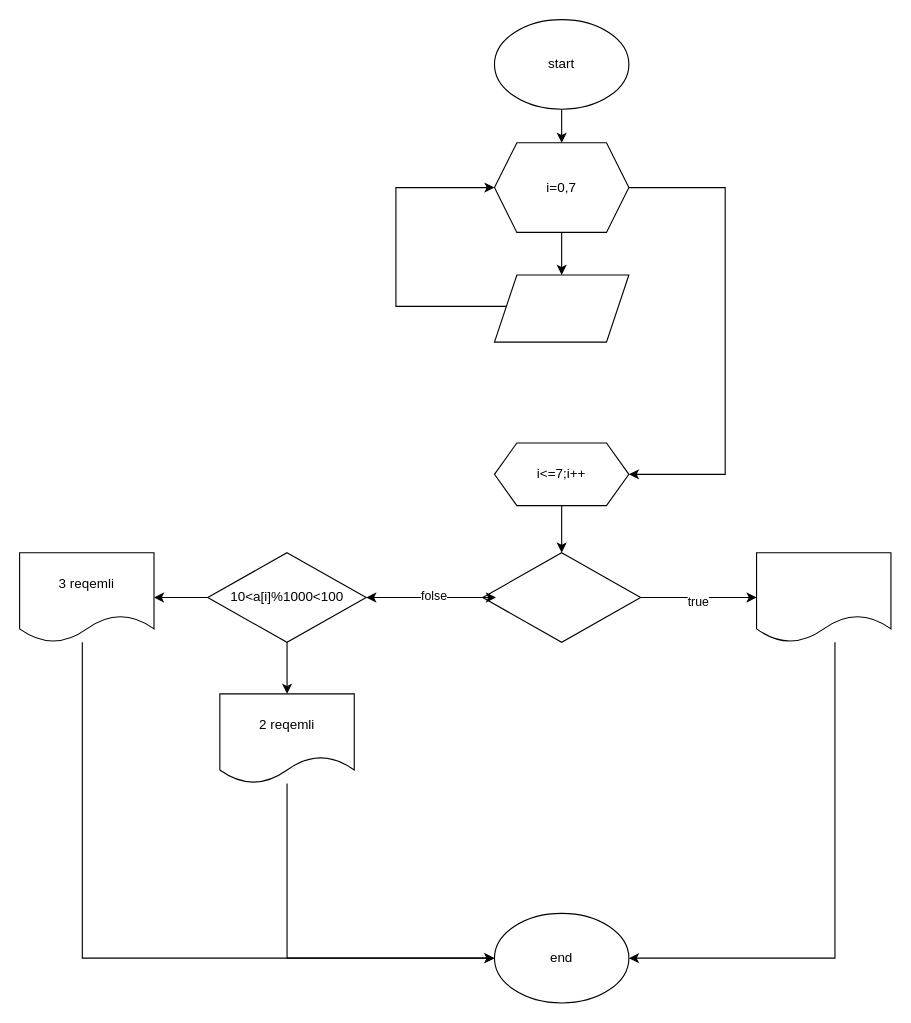
The diagram is 911 pixels wide and 1023 high, and some of its shapes have lost their labels. Here are the shapes that lost their labels. From the top down, the centre of each, then its label:
(x=561, y=308): a[i]
(x=561, y=597): a[i]%1000<10
(x=823, y=597): tekreqemi
